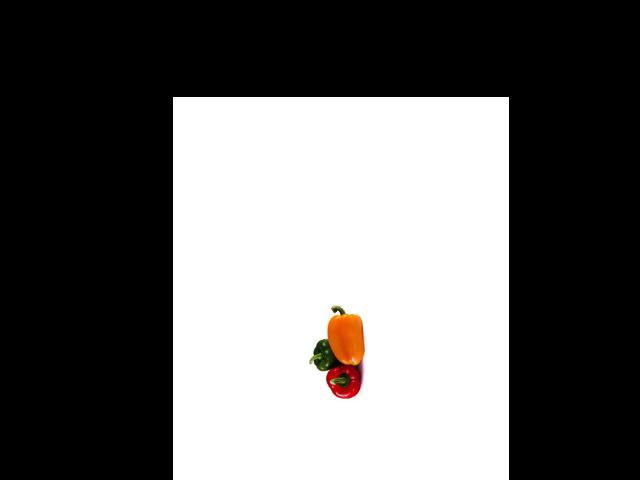bell_pepper: (309, 336, 341, 374)
